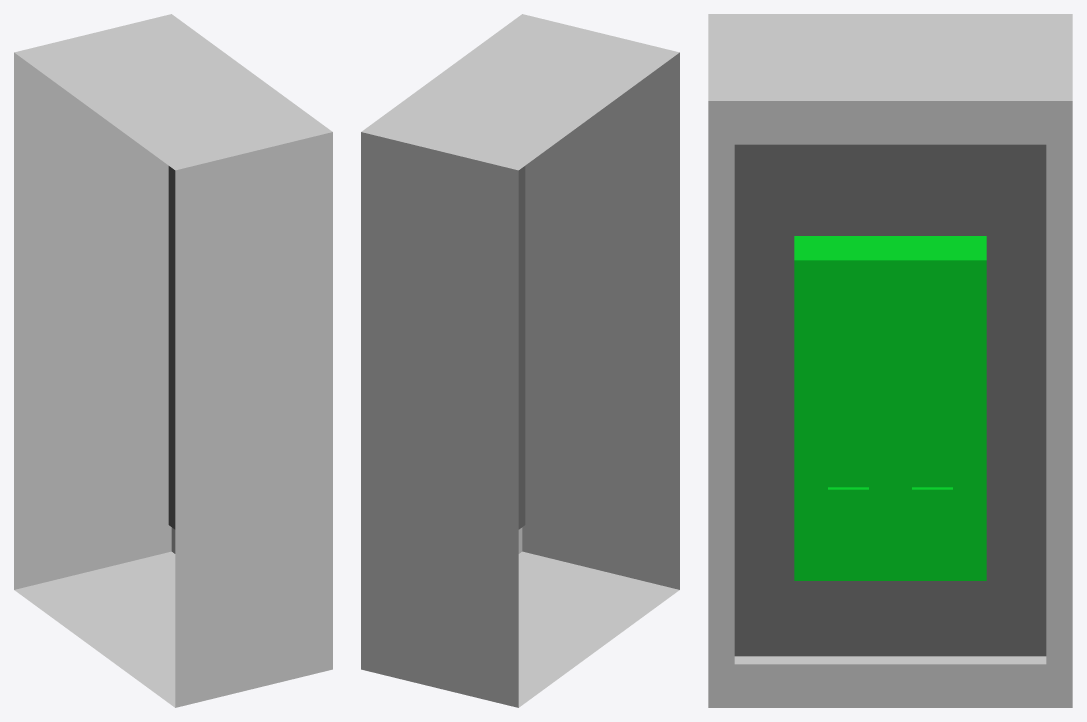
The model's file is DoorButton.fbx.
3 views of the same model, side by side, from view 1: azimuth 30°, elevation 25°; view 2: azimuth 150°, elevation 25°; view 3: azimuth 270°, elevation 25° (orthographic). The views are drawn at different scales.
Visible parts, largest first — view 1: pCube1; view 2: pCube1; view 3: pCube1.
Boxes of the visible parts, x1=… form: pCube1: x1=14, y1=14, x2=332, y2=707; pCube1: x1=361, y1=14, x2=679, y2=707; pCube1: x1=708, y1=14, x2=1072, y2=707.
Size of the model in its own units: 0.6691 by 1.84 by 1.
